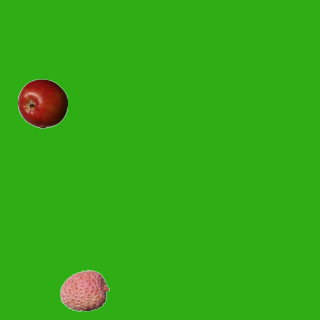Apple Braeburn: (17, 78, 67, 128)
Lychee: (59, 265, 109, 315)
